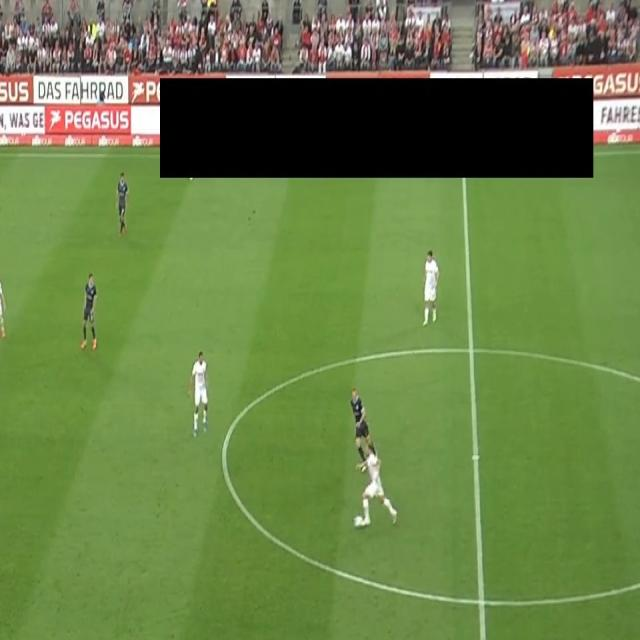ball: (353, 514, 364, 530)
